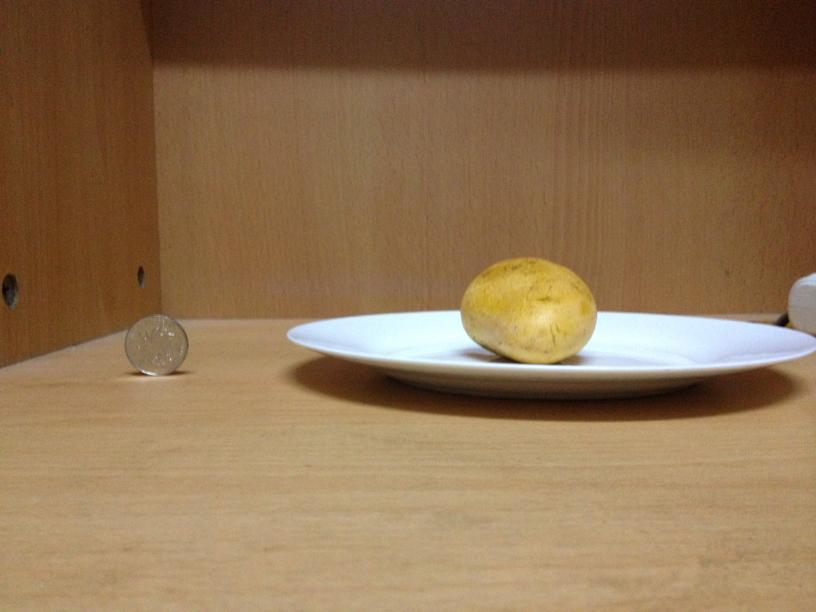coin: (125, 314, 187, 378)
mango: (459, 254, 596, 364)
